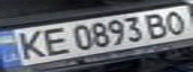0: (69, 21, 93, 52)
3: (121, 15, 148, 43)
8: (90, 19, 112, 48)
9: (106, 17, 130, 46)
B: (139, 11, 175, 39)
E: (36, 25, 72, 56)
K: (9, 28, 51, 61)
O: (160, 8, 193, 36)
